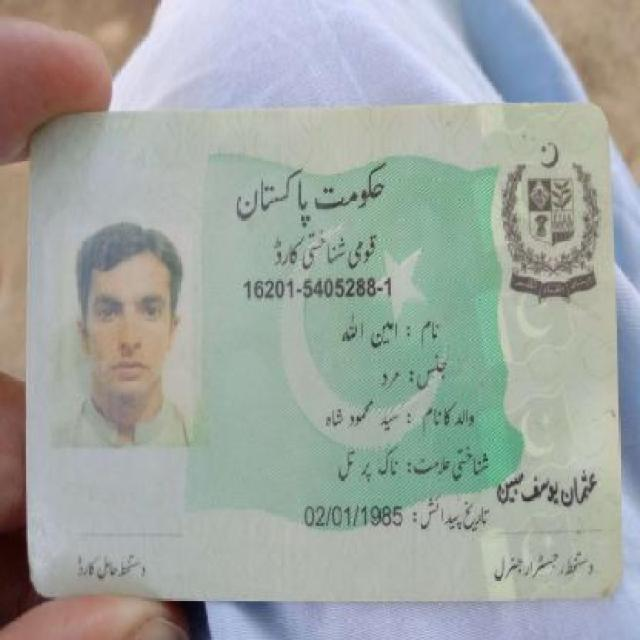Front: (18, 105, 628, 608)
